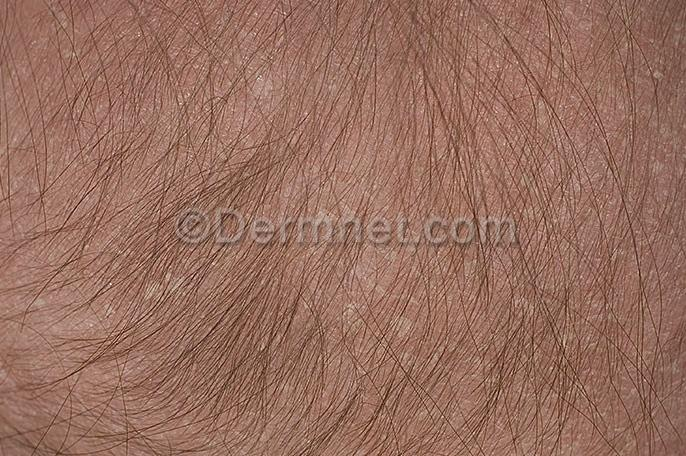xerosis 1: (94, 2, 686, 379)
